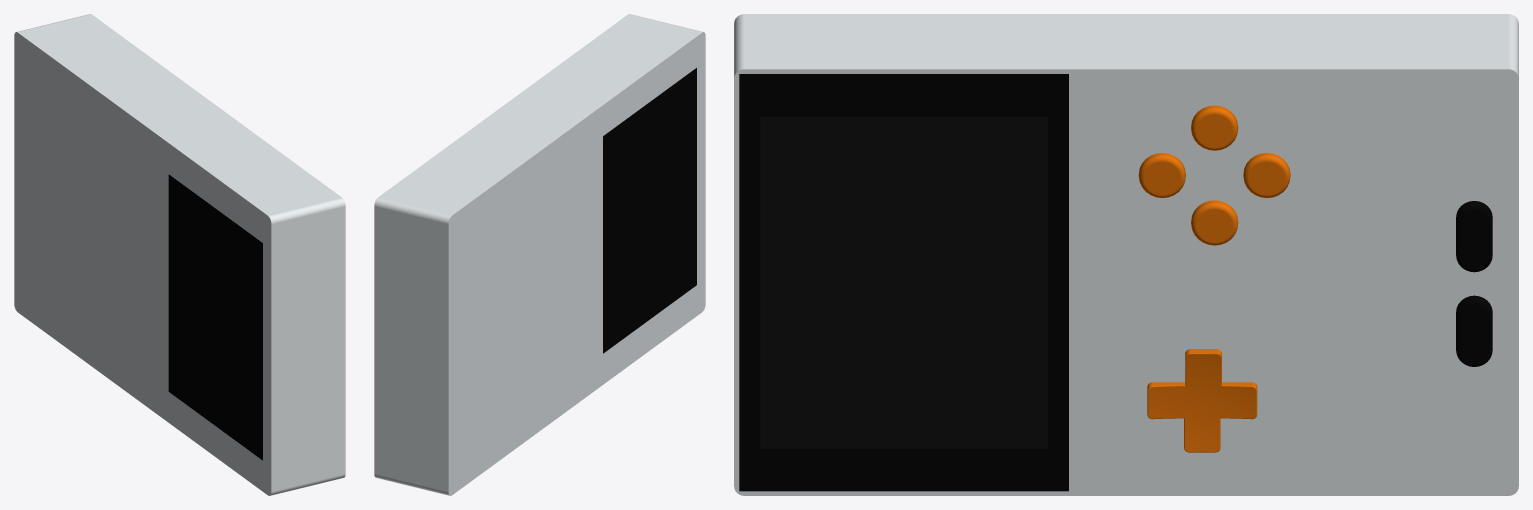
The model's file is SPS_V1_07.20.gltf.
3 views of the same model, side by side, from view 1: azimuth 30°, elevation 25°; view 2: azimuth 150°, elevation 25°; view 3: azimuth 270°, elevation 25° (orthographic). The views are drawn at different scales.
Visible parts, largest first — view 1: SPS V1 07.20; view 2: SPS V1 07.20; view 3: SPS V1 07.20.
Part boxes in pixels (<box>): SPS V1 07.20: <box>14,14,345,495</box>; SPS V1 07.20: <box>374,14,705,495</box>; SPS V1 07.20: <box>734,14,1518,495</box>.
Size of the model in its own units: 0.027 by 0.09 by 0.15.
